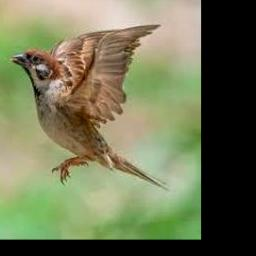Sparrow: (9, 24, 170, 190)
